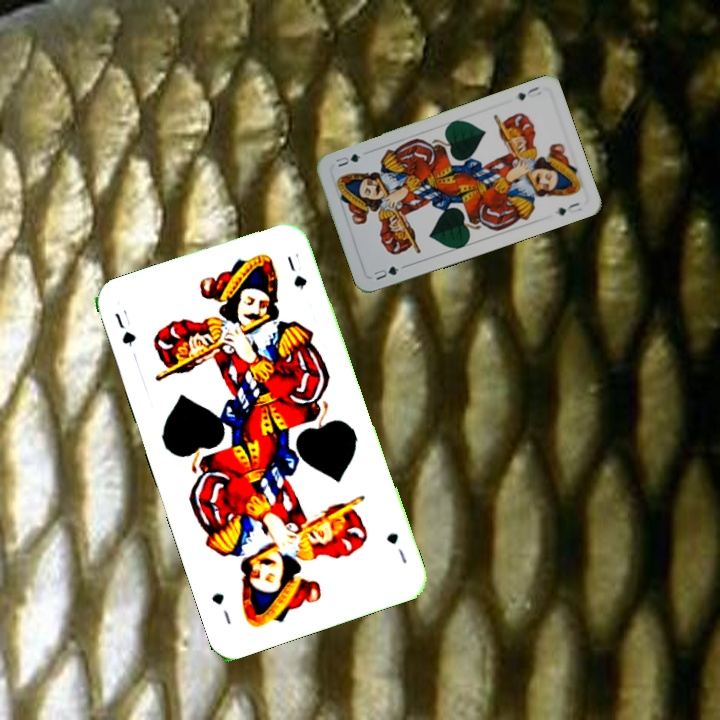GU: (110, 308, 139, 349), (382, 528, 410, 566), (370, 262, 401, 283), (513, 82, 544, 103)
